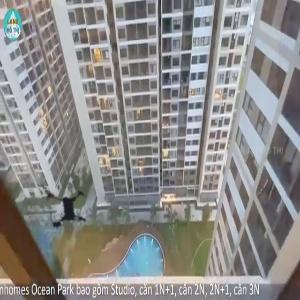drone: (16, 153, 125, 262)
